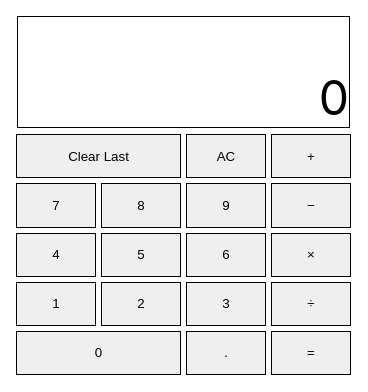
Test case: should show 2222
The width and height of the screenshot is (368, 392).
Click the button titled "2". click: (141, 304)
box: [101,282,181,326]
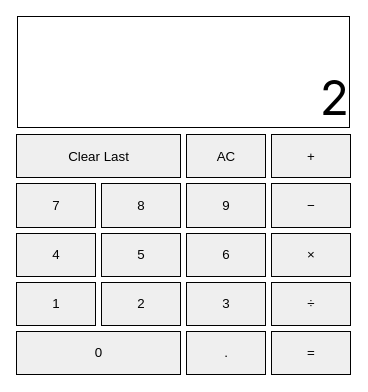
Click the button titled "2". click: (141, 304)
box: [101,282,181,326]
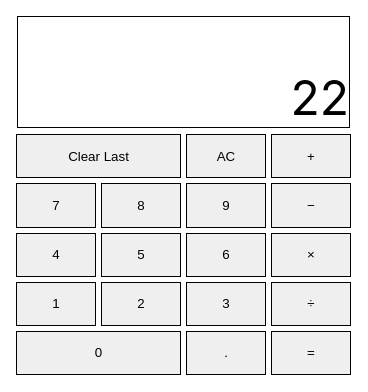
Click the button titled "2". click: (141, 304)
box: [101,282,181,326]
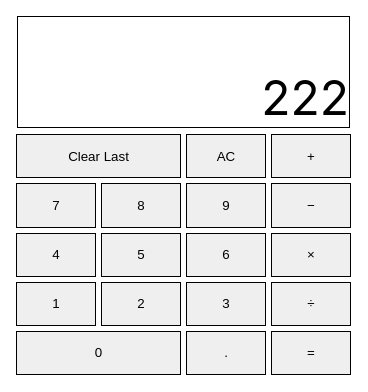
Click the button titled "2". click: (141, 304)
box: [101,282,181,326]
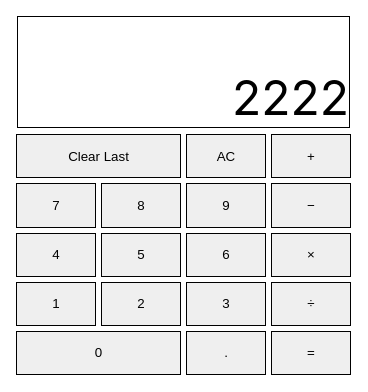
Now the text titled "answer" reads "2222", box [232,68,349,127]
